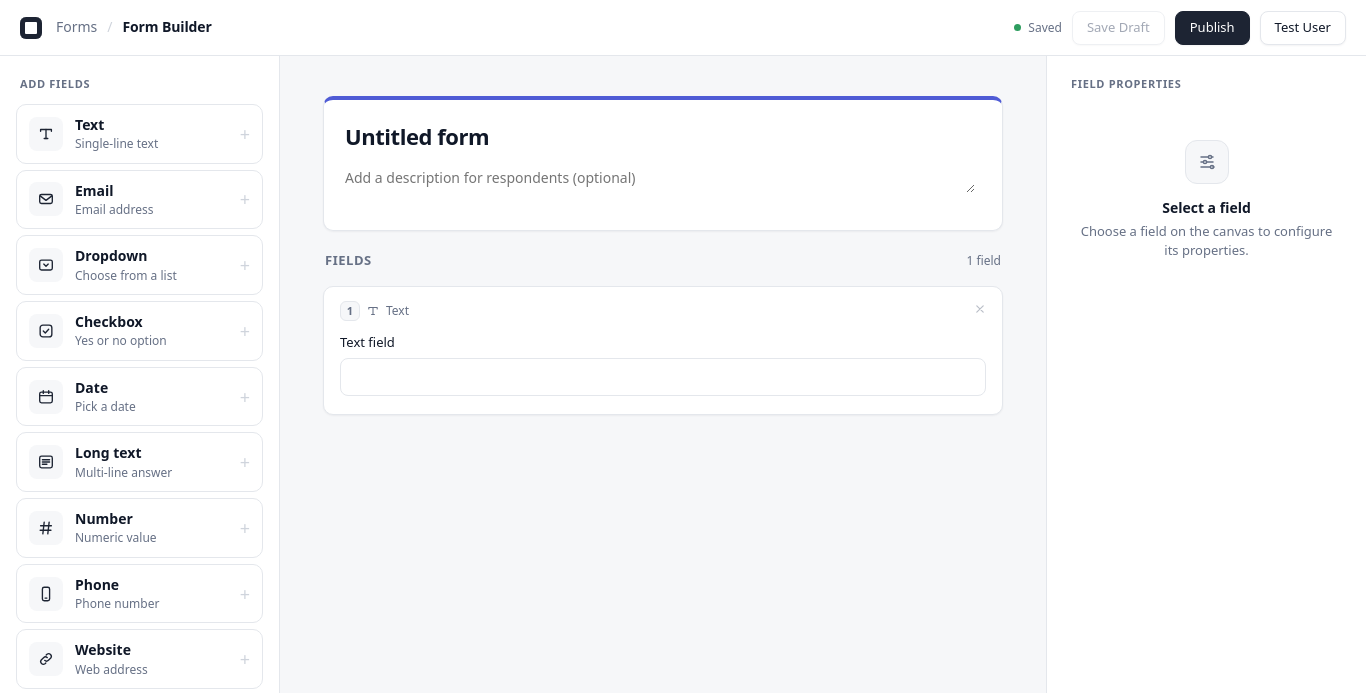
Test: Publish with a persisted form › does not publish when the save fails, keeps edits and never claims Published
The image size is (1366, 693).
Click the button with aria-label "Add Email field" at (140, 199), box [16,170,263,229]
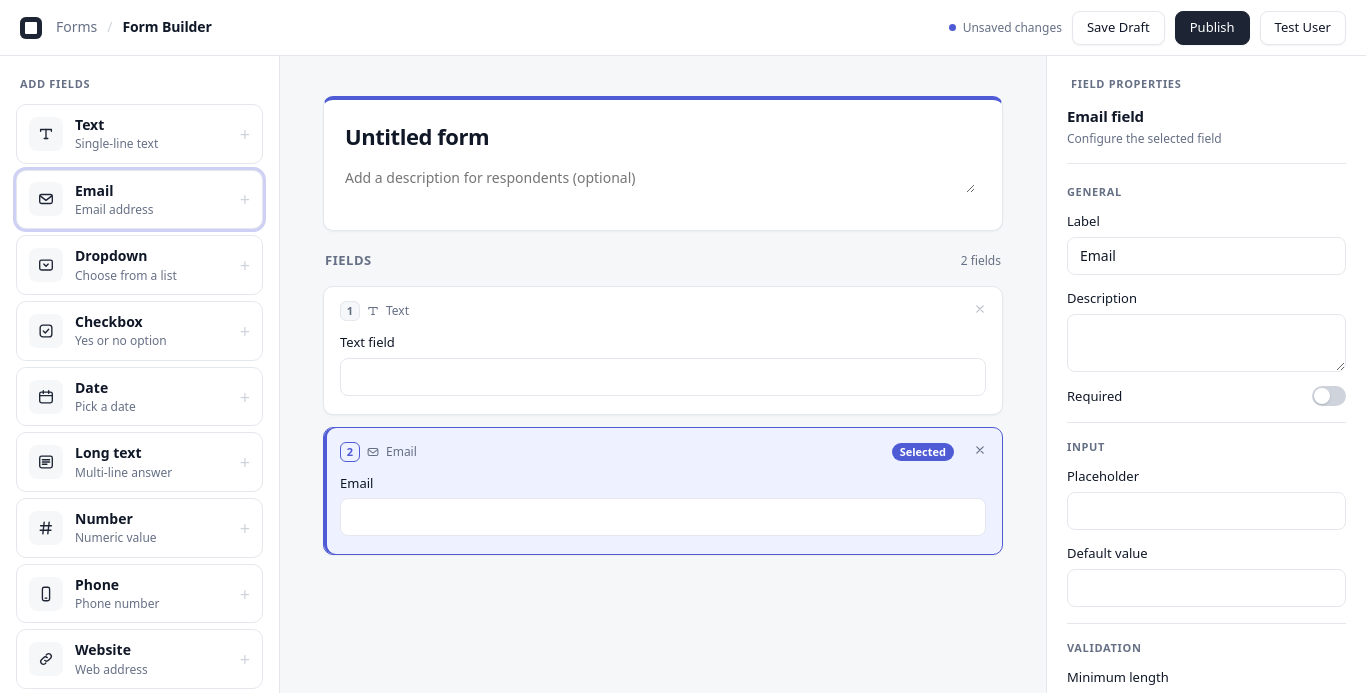
Click the button "Publish" at (1212, 28), box [1175,10,1250,44]
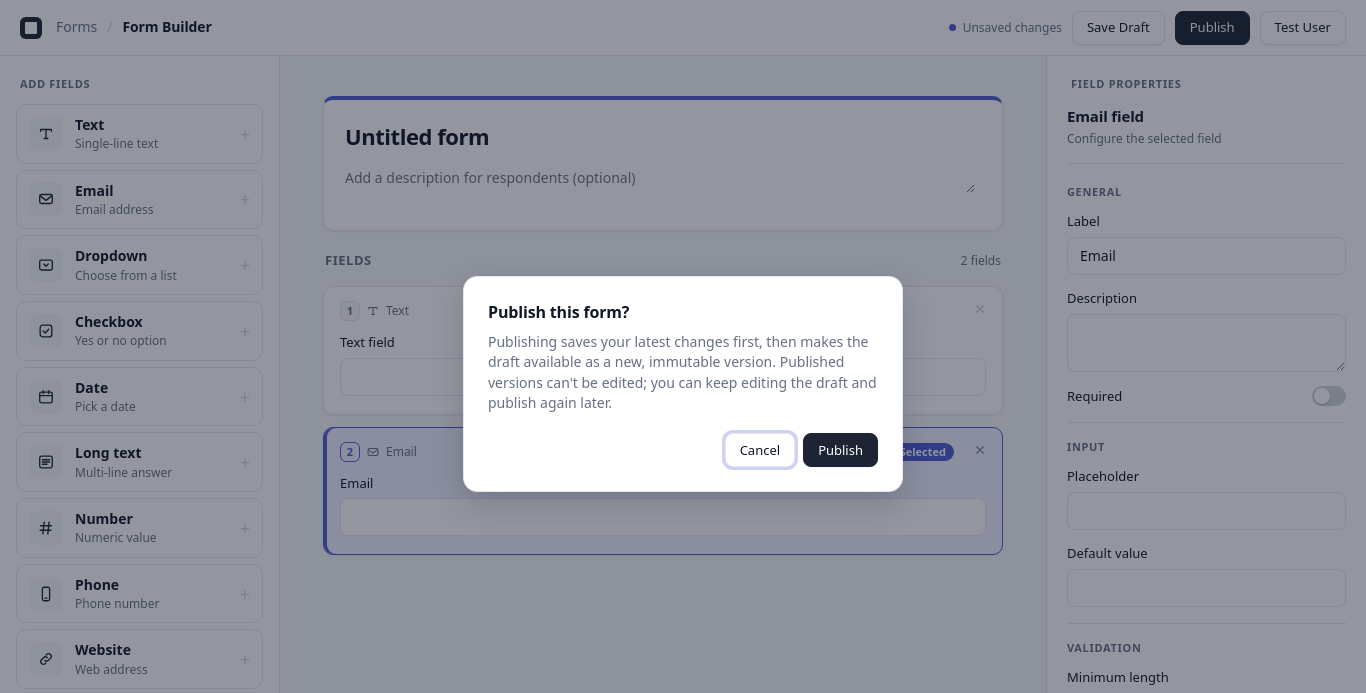
Click the button with class "fb-button-primary" below "Publish this form?" at (841, 450), box [803,433,878,467]
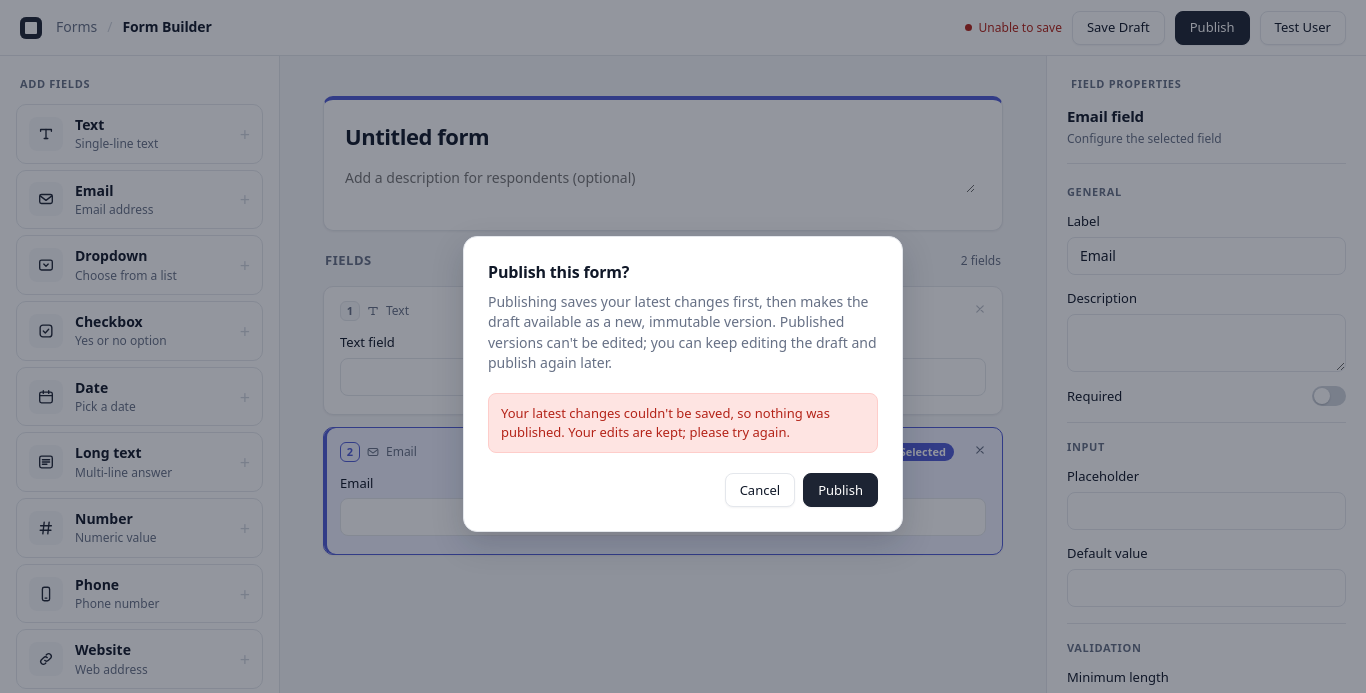
Result: the number of buttons named "Select " is 2 at [324,287,1002,414]; [324,428,1002,554]
Result: the 2nd message shows "nothing was published" at [501,404,830,441]
